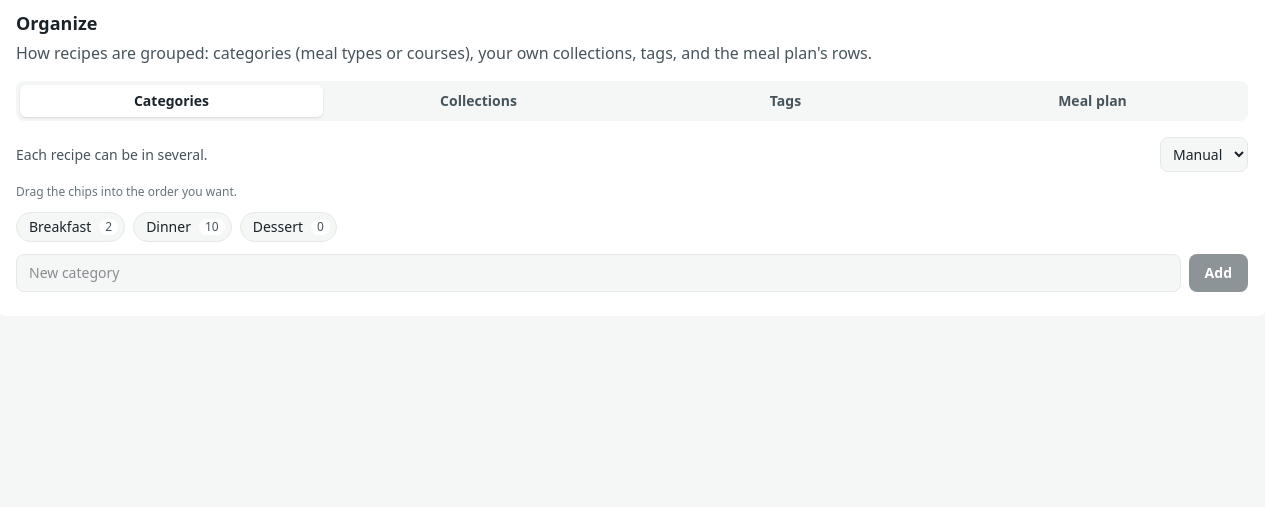
Settings › Recipes, organized › meal plan rows in their own tab
The image size is (1265, 507).
Click the tab "Meal plan".
click(1092, 101)  # box [941,85,1244,117]
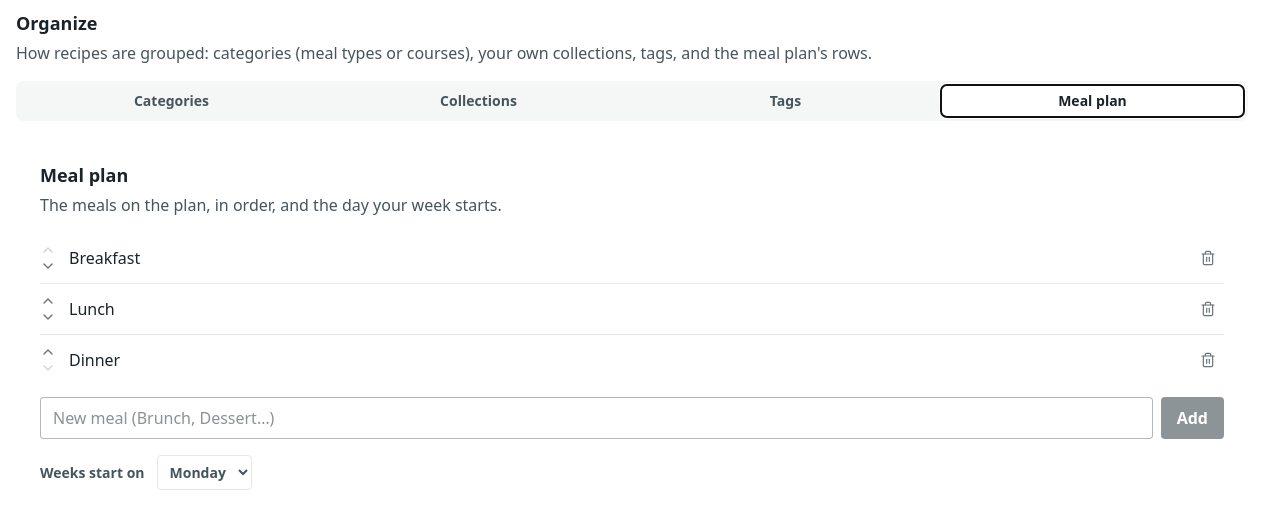
Now the button named "Move Lunch down" is shown, box [40,309,56,325]
